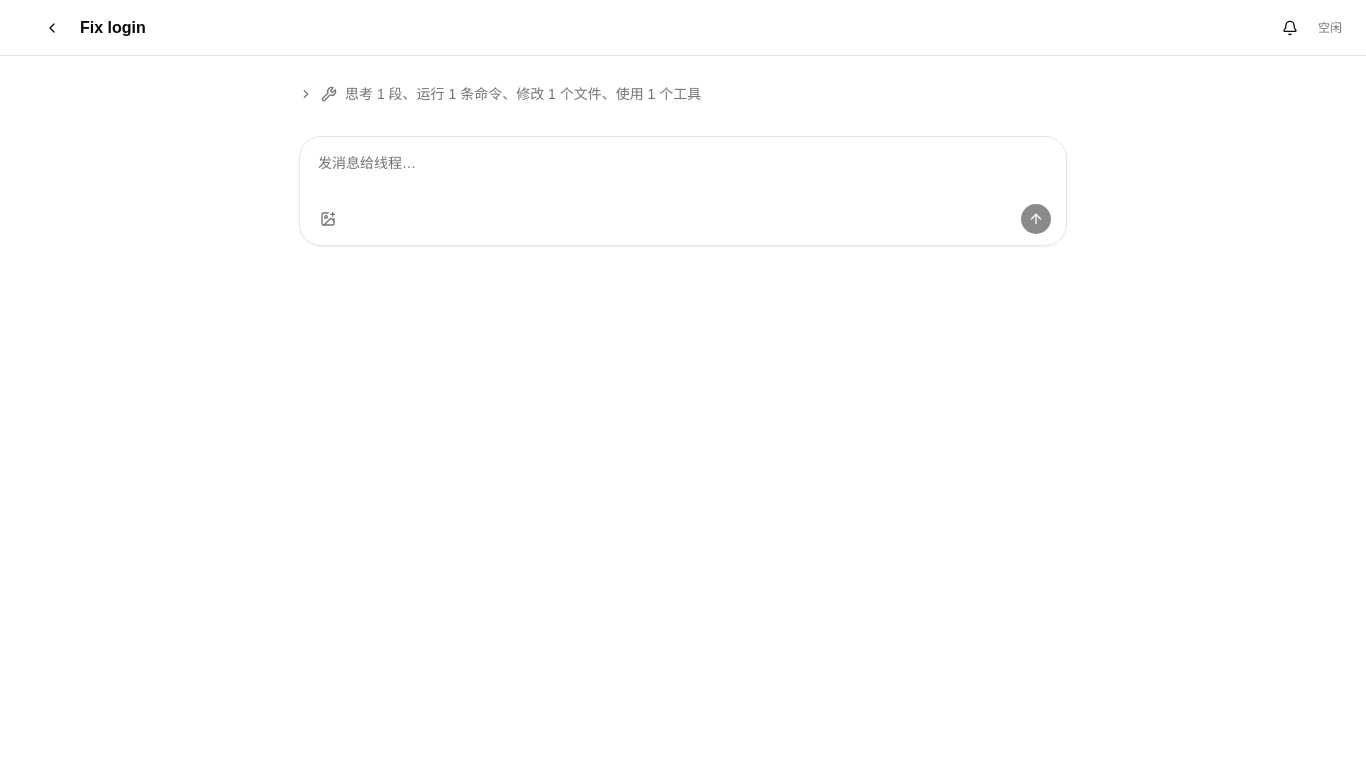
it: ThreadDetailPage › collapses reasoning, commands, tools and file changes until expanded
Expected: the text "思考 1 段、运行 1 条命令、修改 1 个文件、使用 1 个工具" is shown, [345,84,701,104]
Expected: the text "想一想" is not shown
Click the button "思考 1 段、运行 1 条命令、修改 1 个文件、使用 1 个工具": [500, 94] box [299,80,701,108]
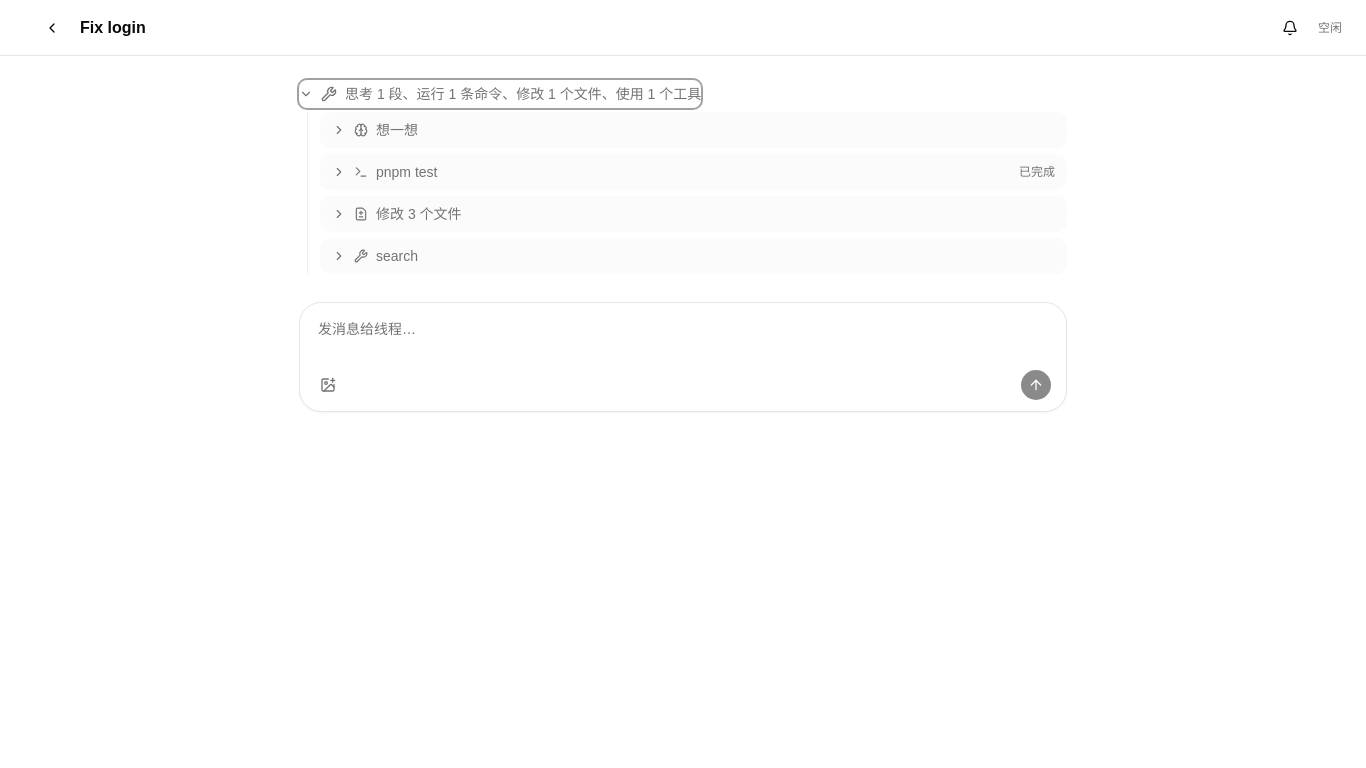
Expected: the text "SECRET-REASONING" is not shown
Expected: the text "想一想" is shown, [376,122,418,138]
Expected: the text "pnpm test" is shown
Click the text "pnpm test": [407, 172] box [376,164,438,180]
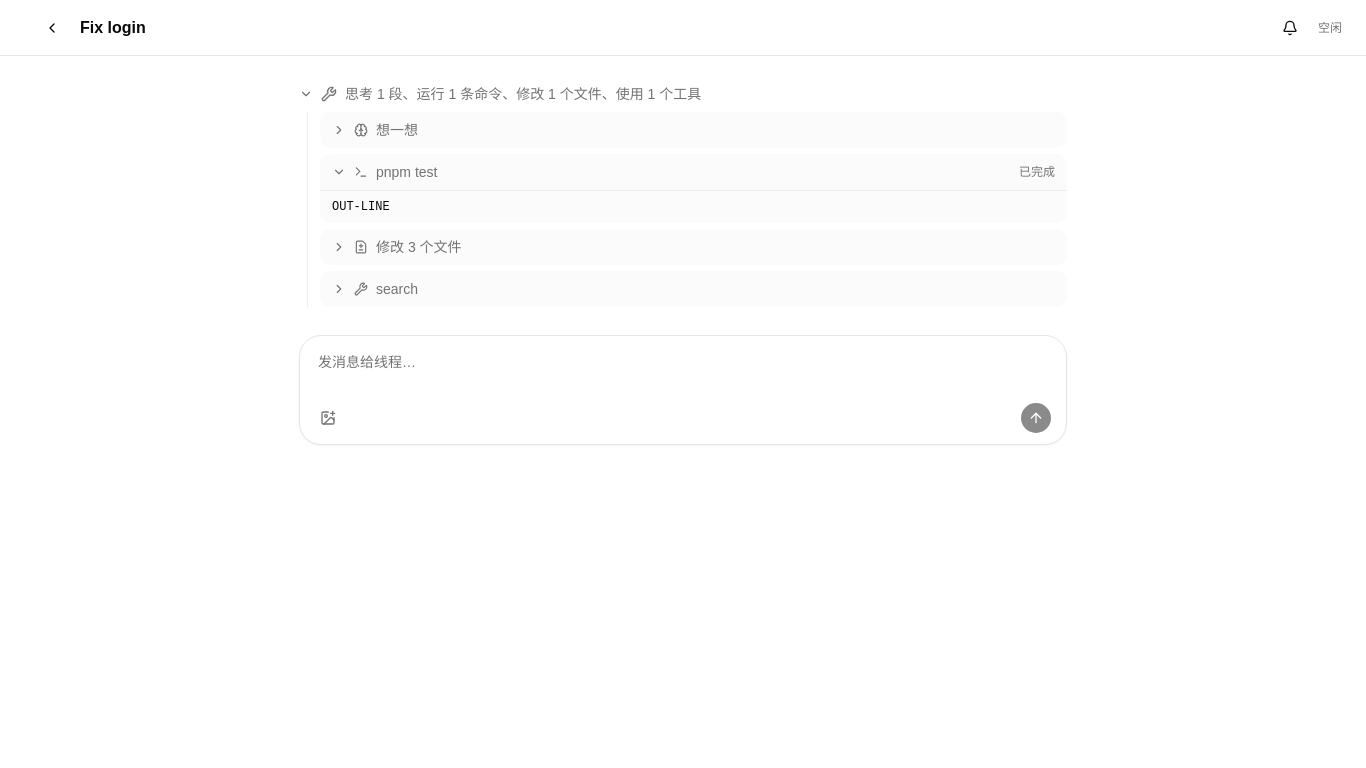
Expected: the text "OUT-LINE" is shown, [332,200,390,214]
Click the heading "想一想": [375, 130] box [332,122,418,138]
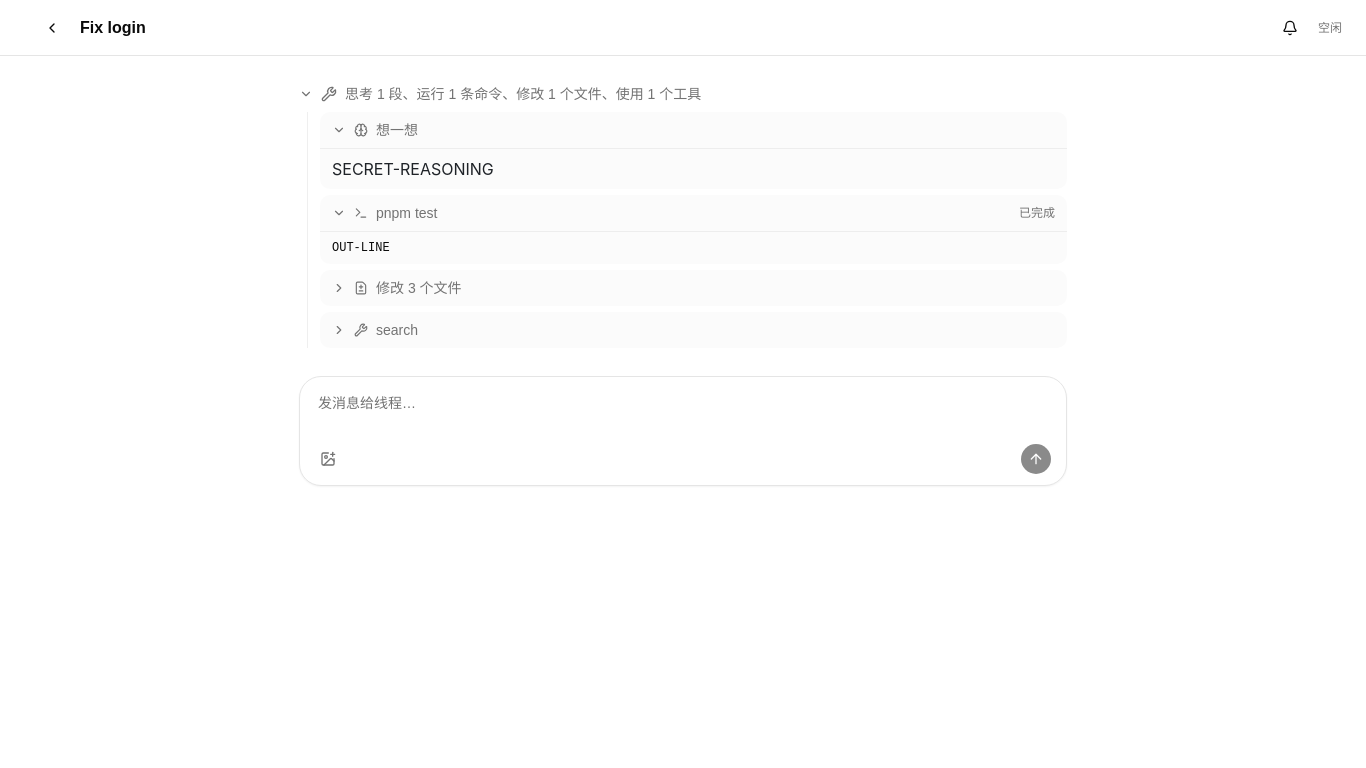
Expected: the text "SECRET-REASONING" is shown, [332,159,494,179]
Click the heading "修改 3 个文件": [397, 288] box [332,280,462,296]
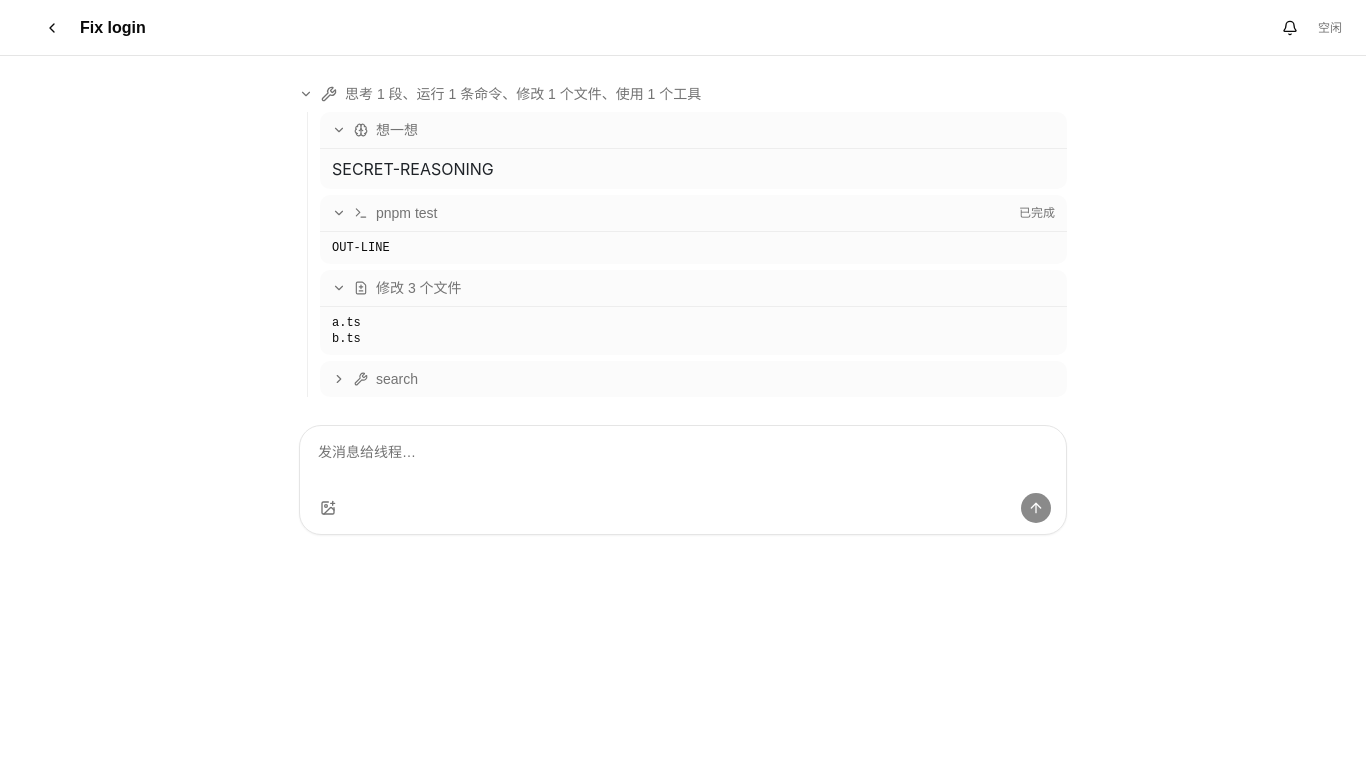
Expected: the text "a.ts b.ts" is shown, [332,316,361,346]
